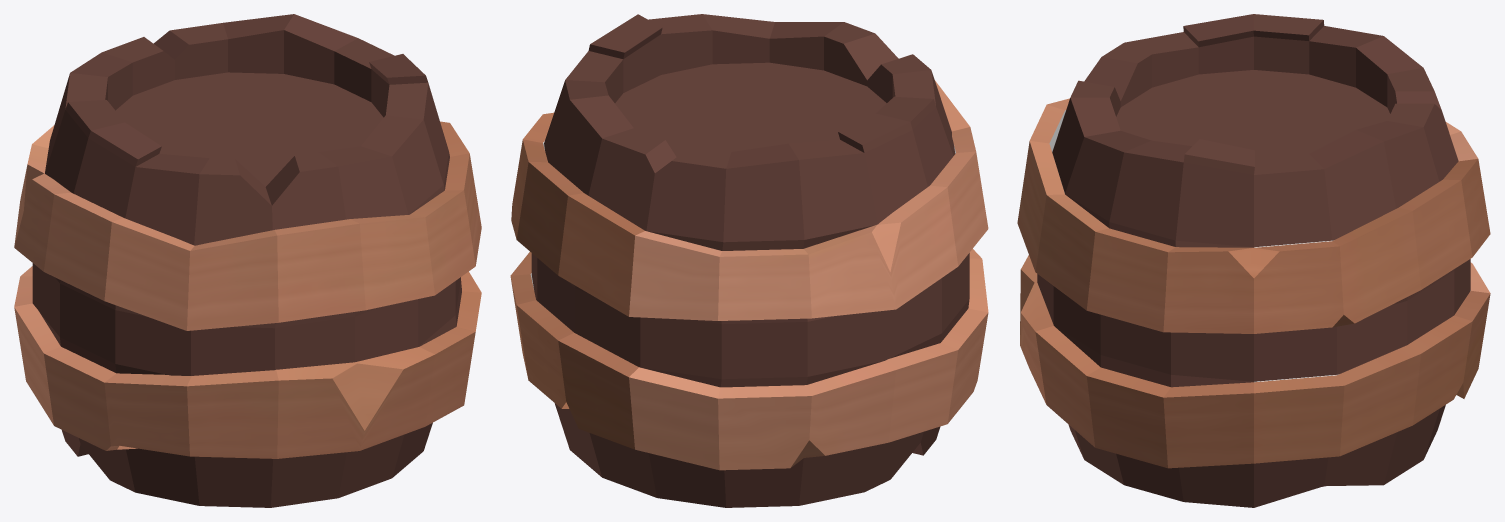
The model's file is Crate.gltf.
3 renders of one model, left to right at view 1: azimuth 30°, elevation 25°; view 2: azimuth 150°, elevation 25°; view 3: azimuth 270°, elevation 25°, orthographic. The views are drawn at different scales.
Visible parts, largest first — view 1: Cylinder; view 2: Cylinder; view 3: Cylinder.
Boxes of the visible parts, x1,y1,x2,y2 form: Cylinder: (14, 14, 481, 507); Cylinder: (510, 14, 988, 507); Cylinder: (1017, 14, 1490, 507).
Bounding box in the file's own units: 2.58 × 2.08 × 2.58.
1 material, 1 textured.
